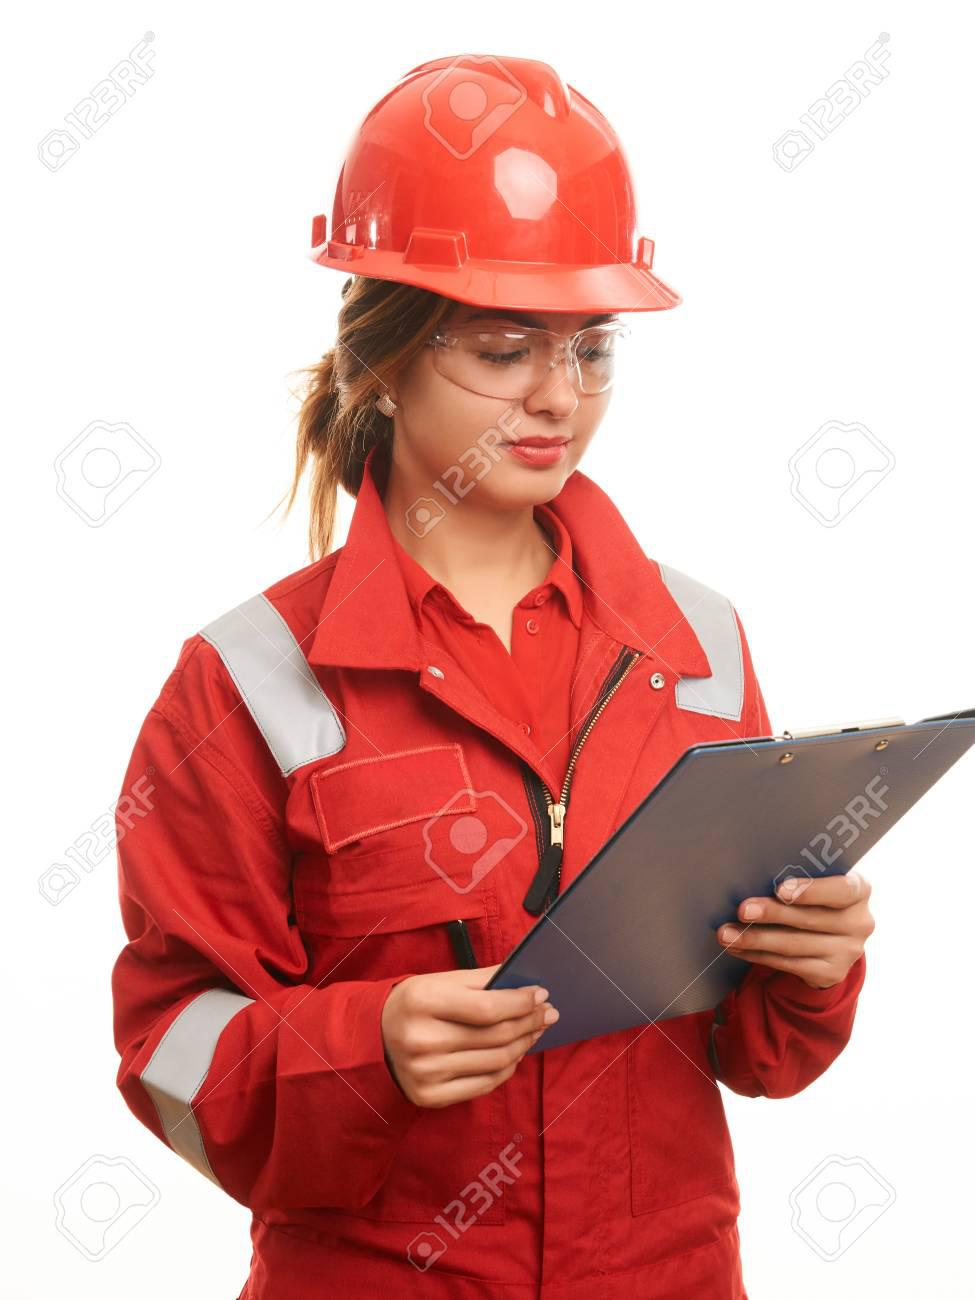hardhat: (312, 55, 675, 316)
worker: (100, 51, 876, 1298)
